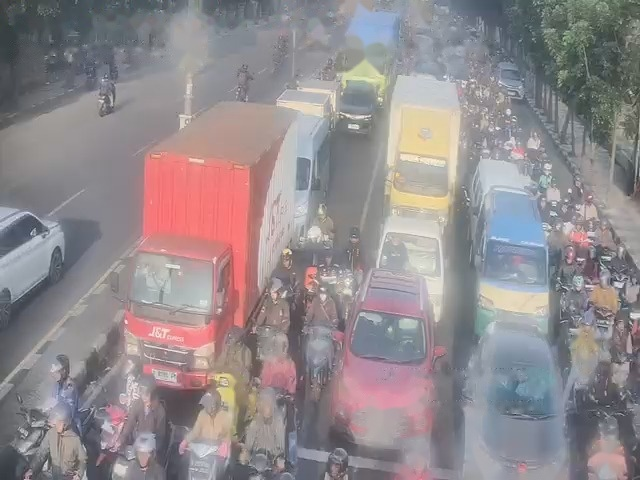Bis: (296, 109, 329, 238)
Mobil: (480, 329, 569, 480), (471, 154, 544, 322), (357, 281, 429, 421)
Motor: (96, 398, 131, 457), (304, 320, 328, 374), (186, 440, 217, 480), (16, 407, 40, 451), (591, 396, 617, 433), (590, 439, 611, 474), (338, 266, 355, 308), (612, 349, 628, 389), (215, 374, 229, 412), (263, 322, 276, 358), (573, 243, 588, 273), (558, 283, 569, 314), (595, 313, 608, 339), (627, 306, 639, 332), (614, 272, 628, 292), (554, 197, 565, 222), (571, 315, 581, 337), (571, 201, 582, 218), (479, 142, 489, 159), (98, 92, 106, 112), (234, 86, 244, 101), (588, 221, 592, 234)
Truk: (138, 101, 284, 391), (391, 62, 462, 210)
